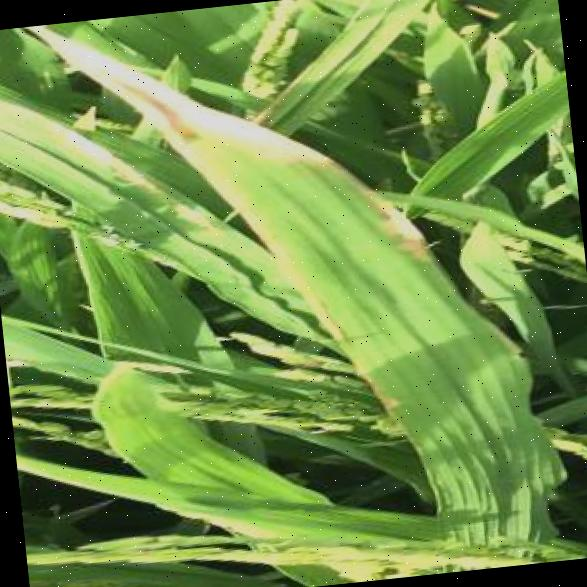Bacteria_Leaf_Blight: (217, 103, 432, 428)
